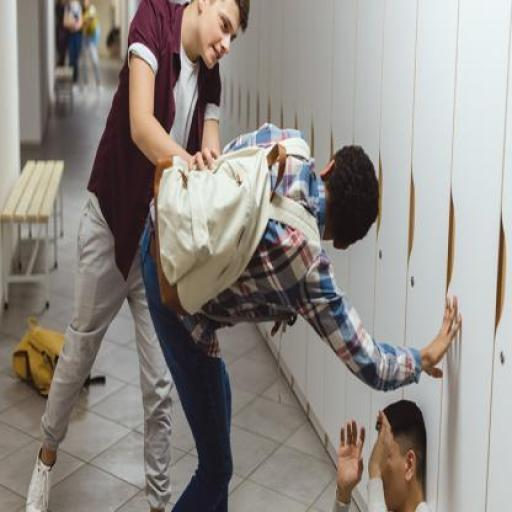Fighting: (28, 0, 460, 512)
